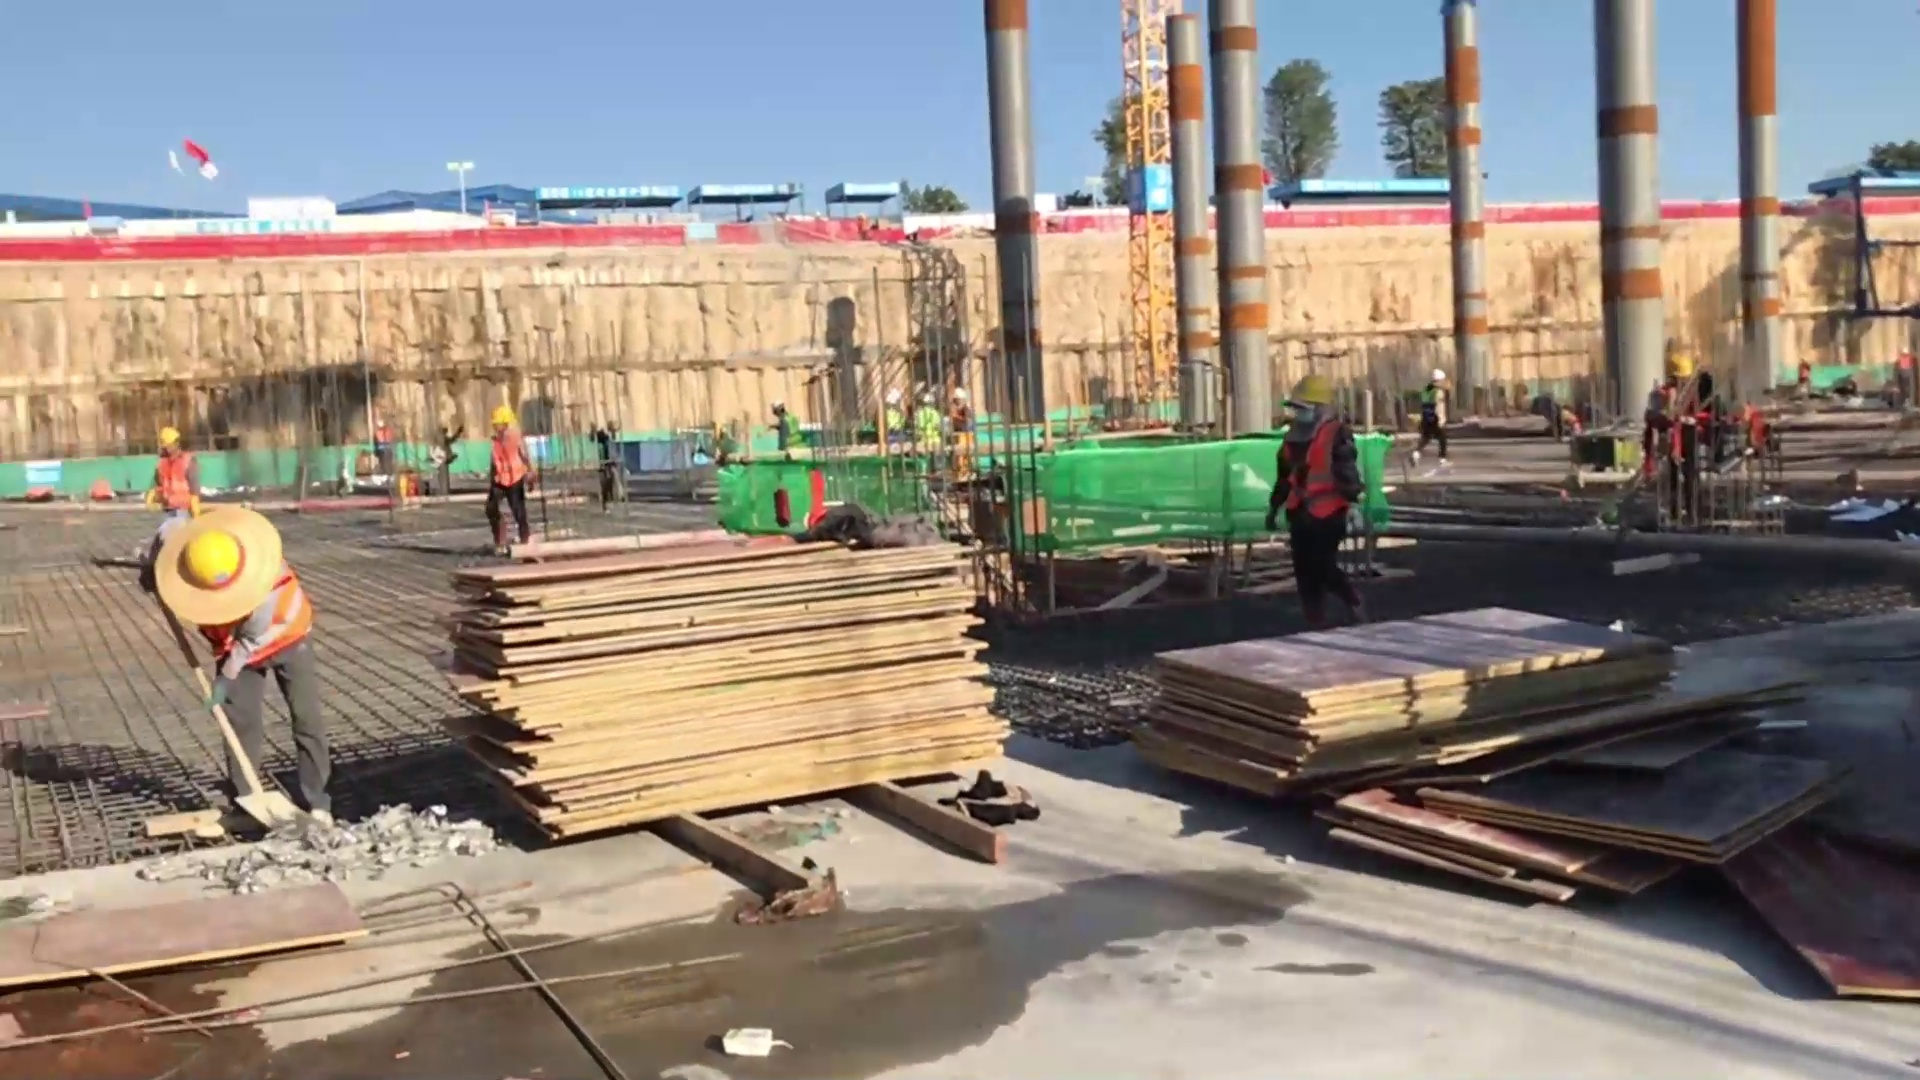helmet: (182, 529, 241, 589), (491, 407, 514, 422)
person: (163, 501, 332, 804), (1270, 373, 1362, 611), (1647, 351, 1701, 507), (481, 407, 532, 558), (150, 422, 204, 527), (1415, 370, 1450, 461), (767, 400, 811, 451), (874, 389, 908, 450), (915, 383, 944, 450), (377, 411, 398, 474), (951, 389, 970, 434)
vest: (196, 562, 297, 676), (153, 455, 198, 513), (492, 435, 526, 486)
